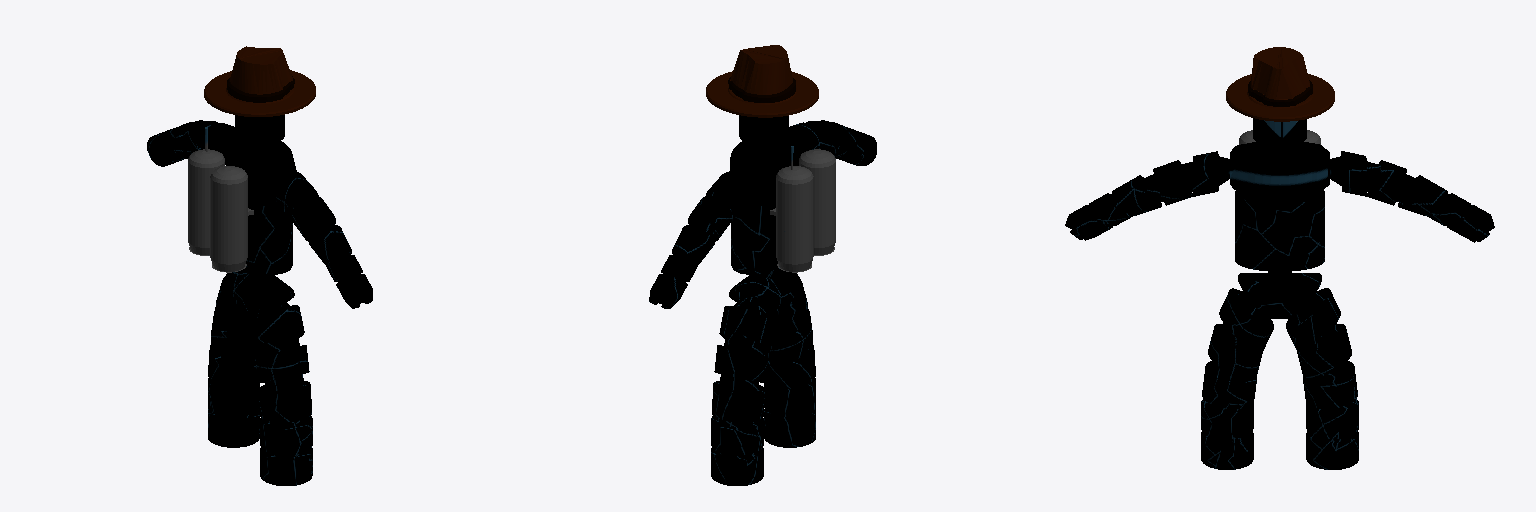
The picture shows the model from 3 angles: view 1: azimuth 30°, elevation 25°; view 2: azimuth 150°, elevation 25°; view 3: azimuth 270°, elevation 25°; orthographic projection.
Parts seen in each view (by area): view 1: POSTAC.001; view 2: POSTAC.001; view 3: POSTAC.001.
Part boxes in pixels (left/top/right/bottom): POSTAC.001: left=147, top=46, right=372, bottom=485; POSTAC.001: left=649, top=45, right=876, bottom=485; POSTAC.001: left=1065, top=47, right=1494, bottom=469.
Size of the model in its own units: 2.84 by 10.04 by 9.72.
3 materials, 1 textured.